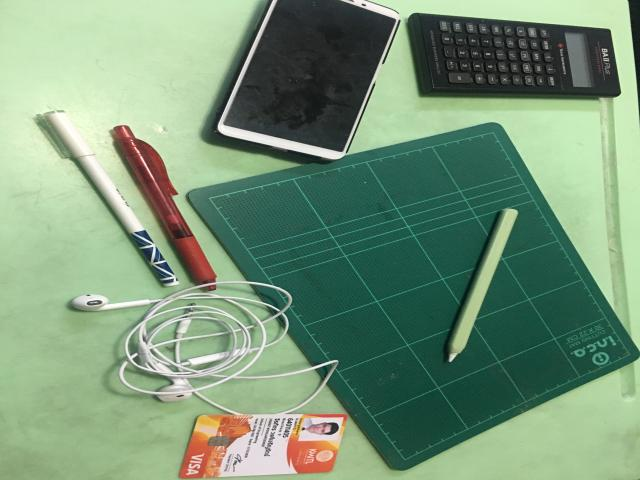Mobile phone: (215, 0, 400, 160)
Pen: (40, 111, 178, 287), (113, 126, 217, 284)
wire: (73, 281, 337, 413)
